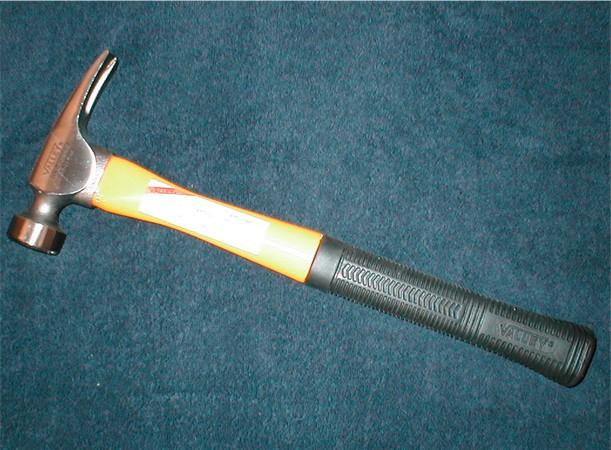hammer: (4, 48, 597, 389)
